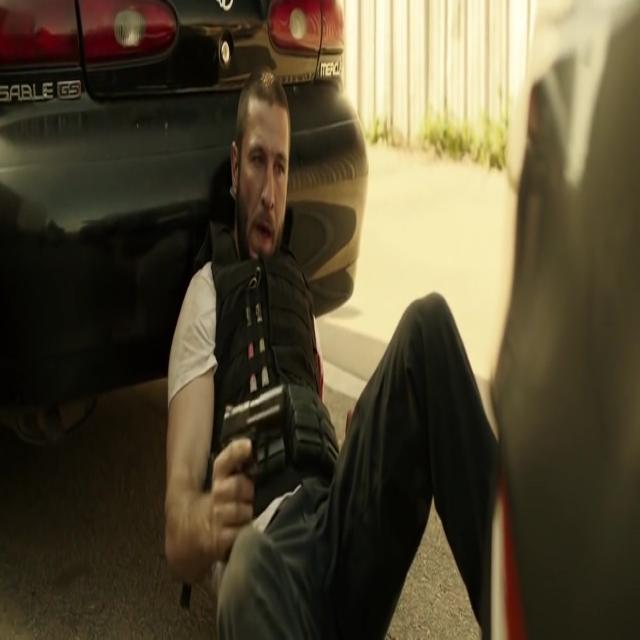Weapon: (211, 399, 307, 517)
